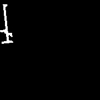double_crochet: (0, 5, 11, 43)
